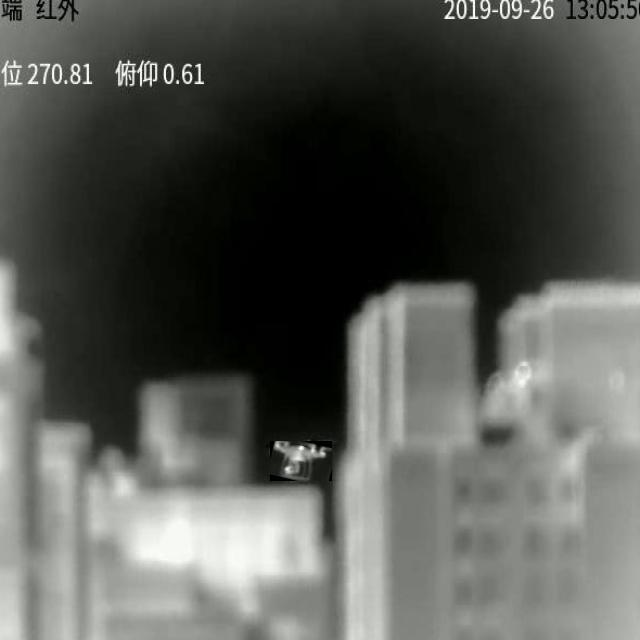drone: (273, 441, 332, 481)
